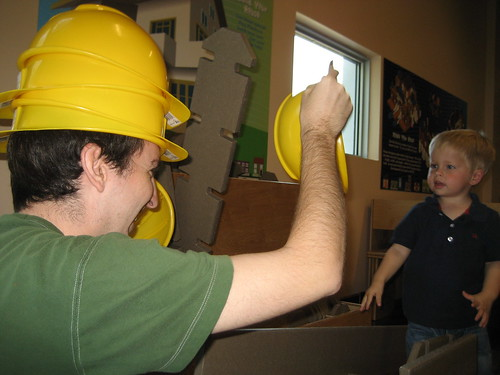hardhat: (269, 74, 370, 205)
person hardhat: (8, 3, 219, 375)
